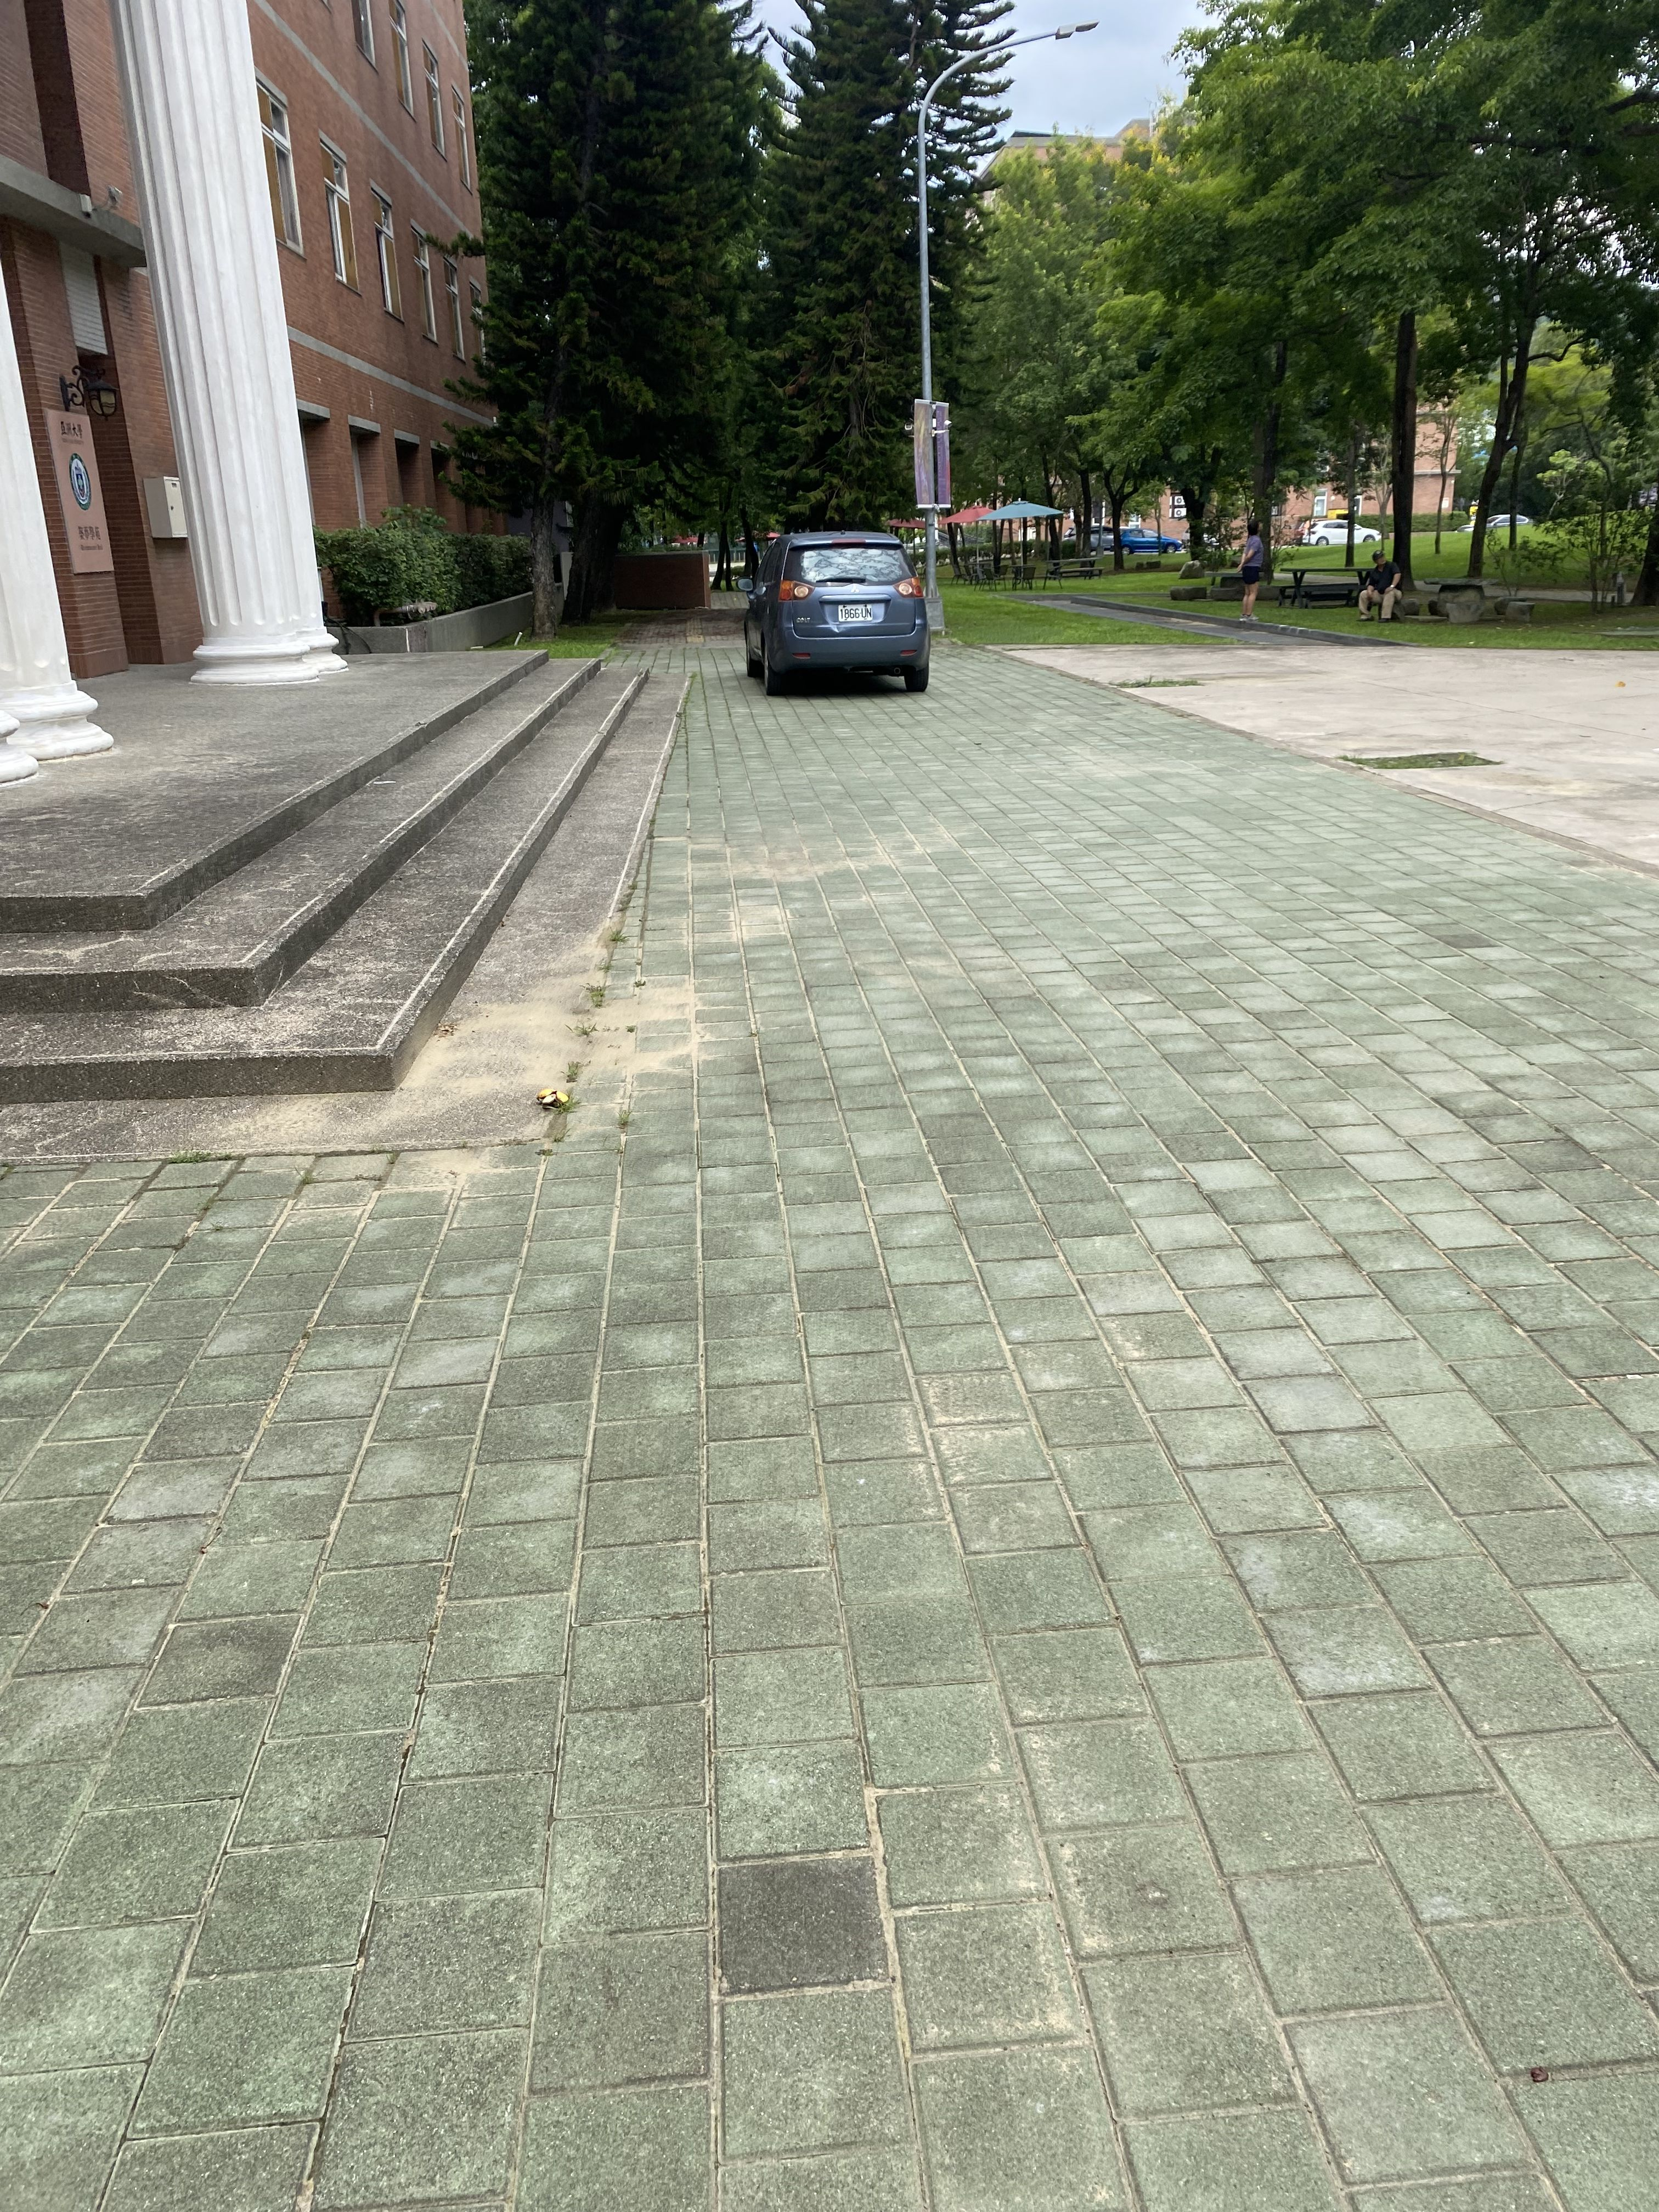sidewalk: (0, 624, 1659, 2212)
